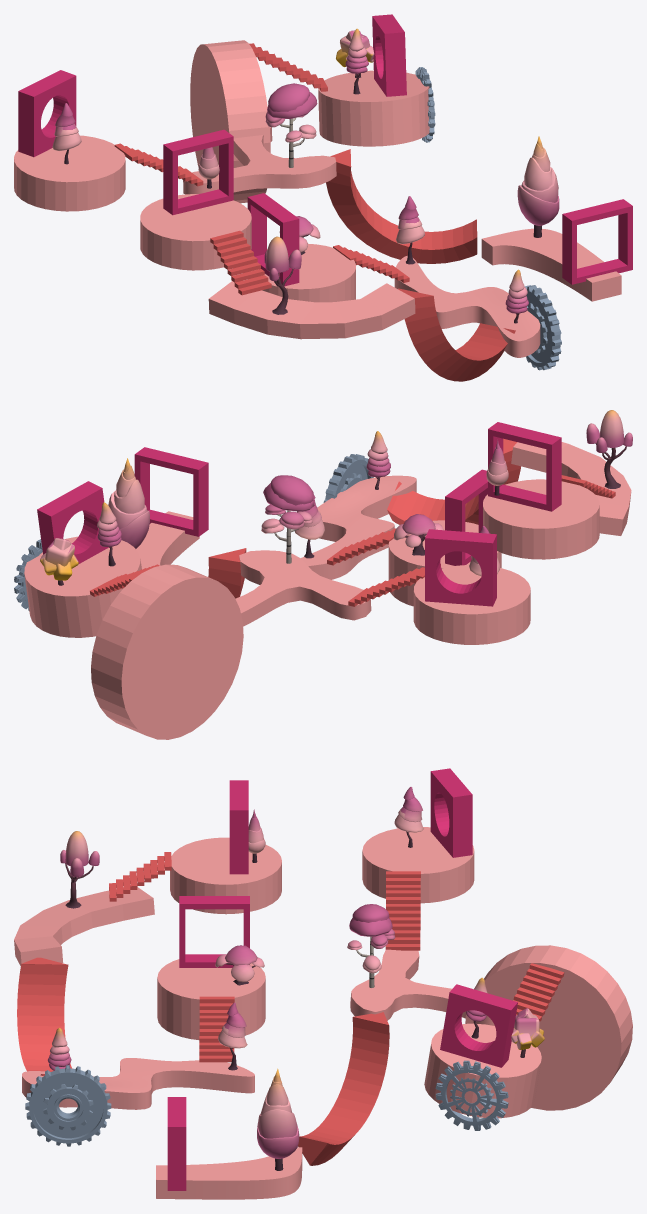
The picture shows the model from 3 angles, top to bottom: view 1: azimuth 30°, elevation 25°; view 2: azimuth 150°, elevation 25°; view 3: azimuth 270°, elevation 25°; orthographic projection. The views are drawn at different scales.
Parts seen in each view (by area): view 1: 立方体.002, 柱体.006, 柱体.004, 柱体.007, 柱体.001, 环体.002, 物件_5.002, 环体.001, 物件_247.001, 物件_1.002, 立方体.001, 物件_312.006 (+15 smaller); view 2: 柱体.006, 柱体.001, 柱体.004, 柱体.007, 物件_1.002, 物件_5.002, 物件_312.006, 立方体.002, 立方体.001, 物件_312.004, 立方体.003, samor_1075_10.001 (+15 smaller); view 3: 柱体.006, 环体.002, 柱体.001, 柱体.007, 柱体.005, 物件_5.002, gear34_gears_0, 柱体.004, 立方体.002, 物件_247.001, 环体.001, 物件_1.002 (+14 smaller).
Boxes of the visible parts, x1,y1,x2,y2 form: 立方体.002: [208, 281, 415, 339]; 柱体.006: [190, 40, 270, 203]; 柱体.004: [318, 70, 429, 146]; 柱体.007: [14, 135, 125, 211]; 柱体.001: [140, 194, 251, 270]; 环体.002: [326, 149, 477, 263]; 物件_5.002: [394, 255, 540, 357]; 环体.001: [398, 288, 515, 381]; 物件_247.001: [481, 228, 621, 301]; 物件_1.002: [183, 127, 336, 194]; 立方体.001: [163, 129, 233, 215]; 物件_312.006: [18, 70, 76, 157]; 柱体.006: [91, 564, 243, 739]; 柱体.001: [483, 479, 599, 559]; 柱体.004: [24, 536, 141, 637]; 柱体.007: [413, 565, 530, 644]; 物件_1.002: [235, 550, 371, 626]; 物件_5.002: [301, 475, 416, 579]; 物件_312.006: [425, 529, 496, 606]; 立方体.002: [511, 442, 631, 535]; 立方体.001: [488, 422, 561, 511]; 物件_312.004: [37, 481, 108, 563]; 立方体.003: [134, 447, 208, 536]; samor_1075_10.001: [261, 475, 314, 563]; 柱体.006: [465, 945, 632, 1110]; 环体.002: [298, 1012, 389, 1165]; 柱体.001: [170, 837, 281, 914]; 柱体.007: [362, 827, 474, 903]; 柱体.005: [157, 959, 265, 1039]; 物件_5.002: [22, 1058, 254, 1109]; gear34_gears_0: [25, 1065, 111, 1146]; 柱体.004: [424, 1023, 541, 1118]; 立方体.002: [14, 887, 154, 966]; 物件_247.001: [156, 1147, 302, 1199]; 环体.001: [17, 957, 72, 1075]; 物件_1.002: [350, 949, 494, 1025].
Bounding box in the file's own units: 4810 × 2134 × 5294.
5 materials, 1 textured.
